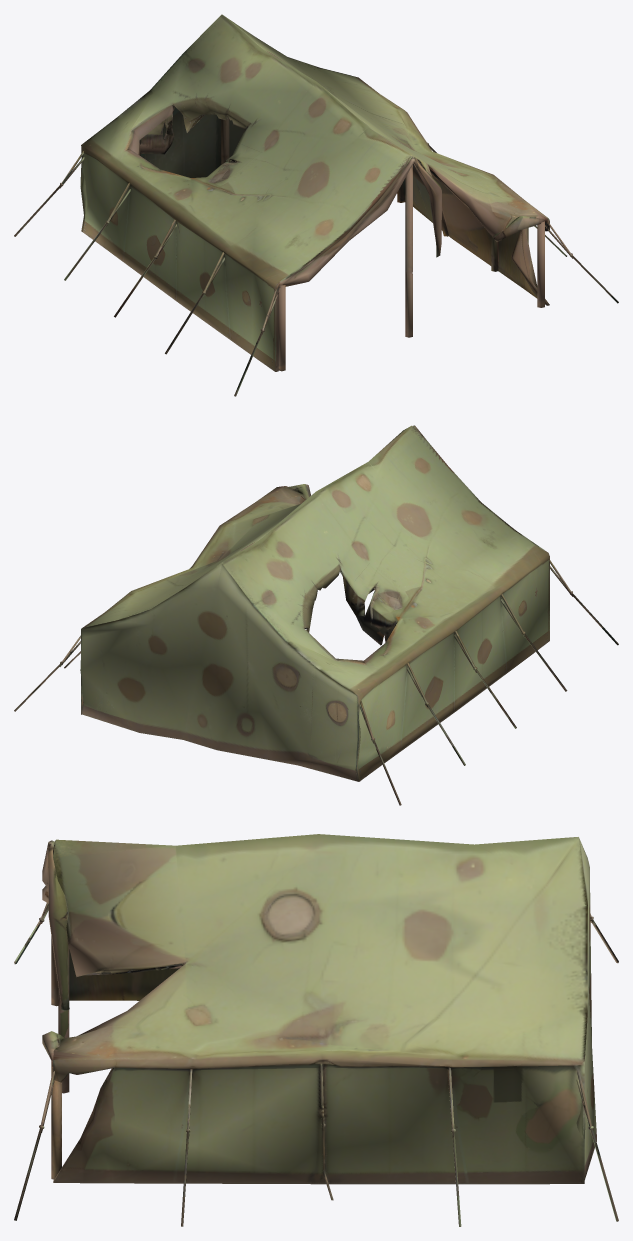
The model's file is army_tent.fbx.
The picture shows the model from 3 angles, top to bottom: view 1: azimuth 30°, elevation 25°; view 2: azimuth 150°, elevation 25°; view 3: azimuth 270°, elevation 25°; orthographic projection. The views are drawn at different scales.
Parts seen in each view (by area): view 1: input; view 2: input; view 3: input.
Part boxes in pixels (x1,y1,x2,y2): input: (14,14,618,396); input: (14,425,618,805); input: (14,834,618,1226).
Bounding box in the file's own units: 200 × 89.77 × 189.
Materials: 1 (1 with a texture image).
